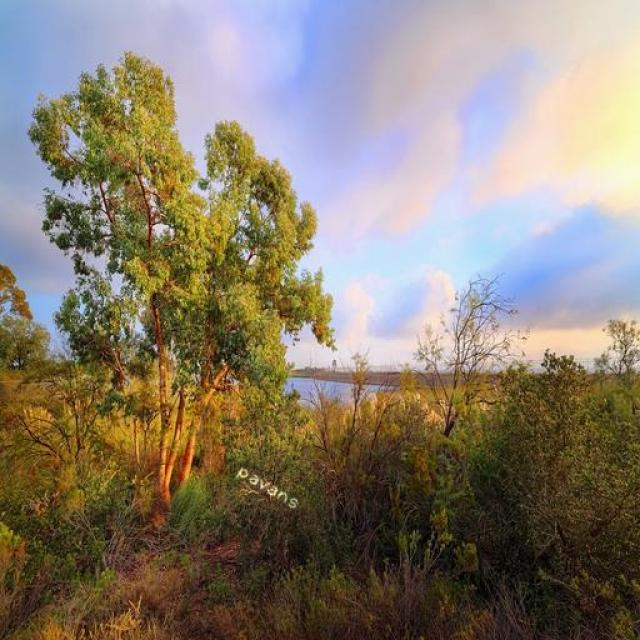watermark: (230, 460, 307, 513)
